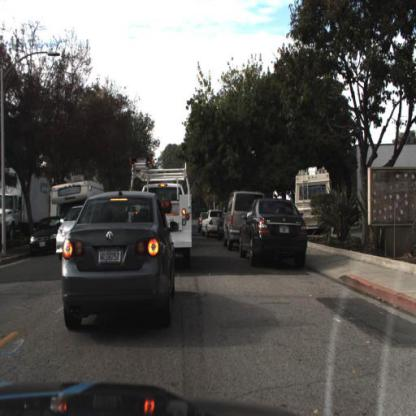car: (62, 188, 178, 330), (236, 195, 308, 270), (165, 162, 196, 270), (222, 188, 266, 251), (48, 170, 98, 221), (55, 202, 83, 261), (200, 206, 223, 240), (215, 199, 227, 245)
truck: (141, 180, 195, 260), (0, 166, 49, 243), (291, 161, 335, 240), (50, 175, 104, 235)
